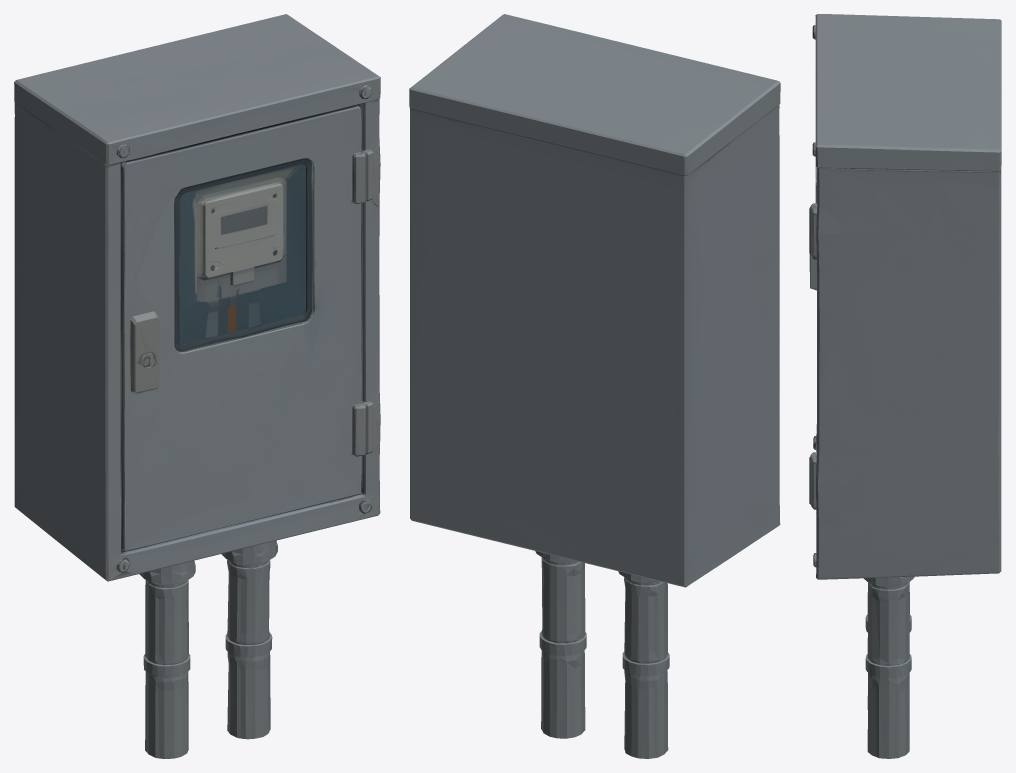
File: electric_meter_box.glb
3 renders of one model, left to right at view 1: azimuth 30°, elevation 25°; view 2: azimuth 150°, elevation 25°; view 3: azimuth 270°, elevation 25°, orthographic. The views are drawn at different scales.
Parts seen in each view (by area): view 1: electric_meter_box; view 2: electric_meter_box; view 3: electric_meter_box.
Boxes of the visible parts, x1=… form: electric_meter_box: x1=14, y1=14, x2=380, y2=758; electric_meter_box: x1=409, y1=14, x2=780, y2=758; electric_meter_box: x1=809, y1=14, x2=1001, y2=758.
Bounding box in the file's own units: 0.2624 × 0.6 × 0.1607.
Materials: 1 (1 with a texture image).
